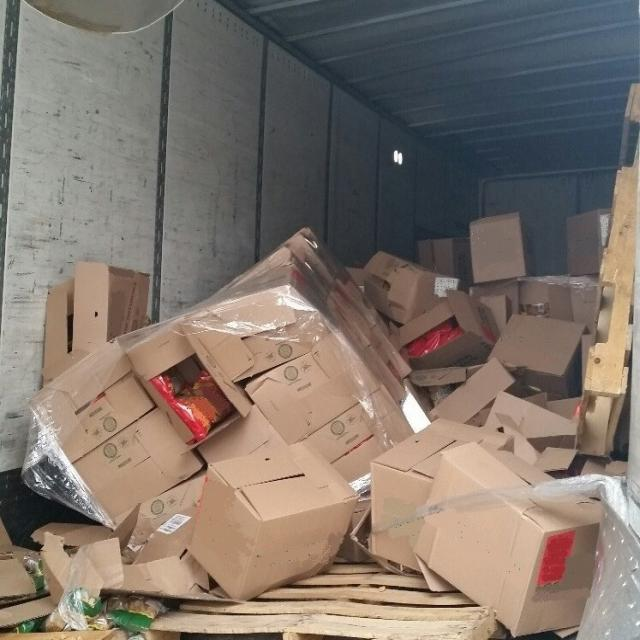leakage: (127, 329, 250, 448), (384, 302, 489, 365)
